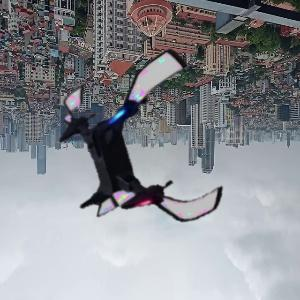drone: (51, 59, 238, 246)
